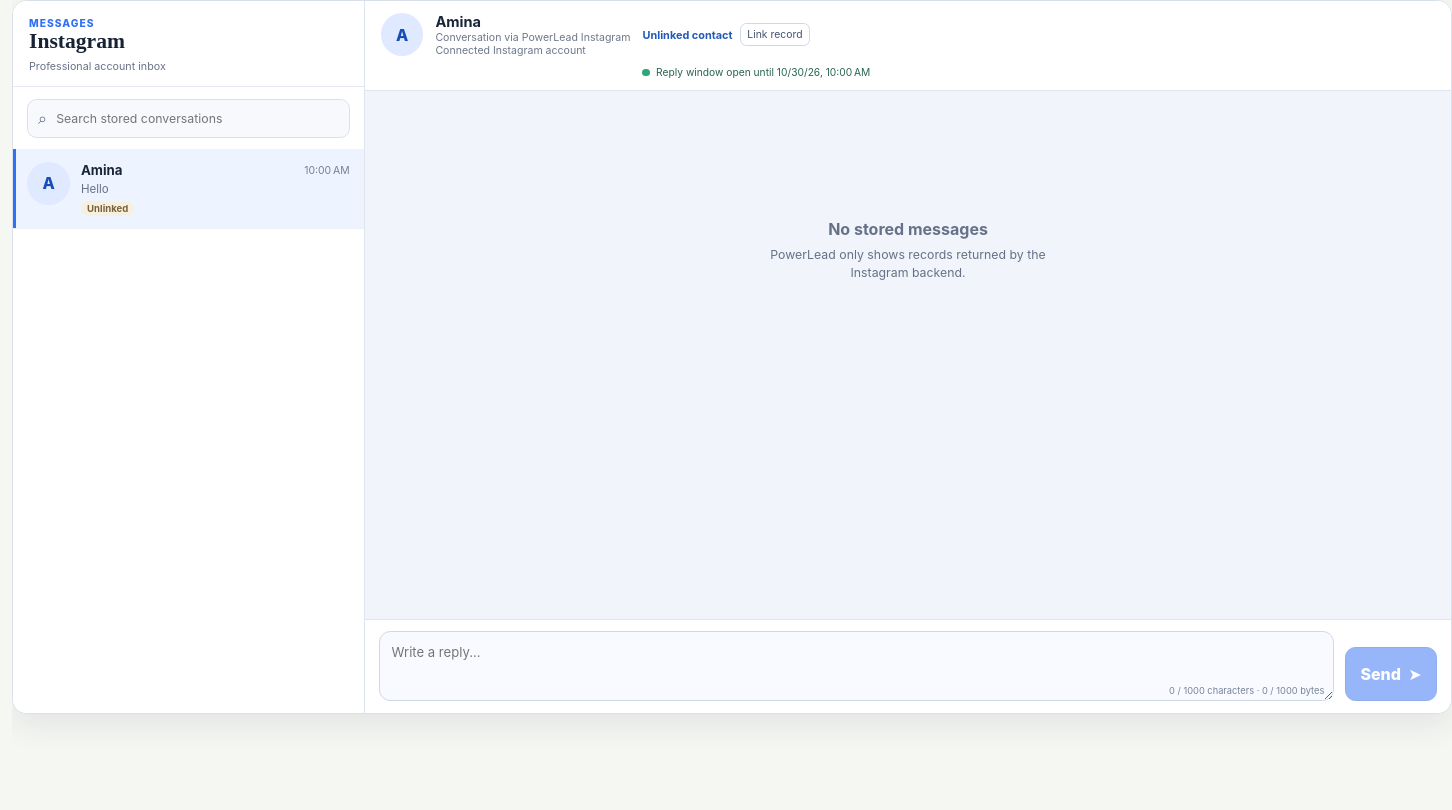
Test: InstagramInboxComponent › handles definitive provider failures separately and keeps the draft
Type "Please reply" into the text box labelled "0 / 1000 characters · 0 / 1000 bytes". click: (856, 666)
box: [379,631,1334,701]
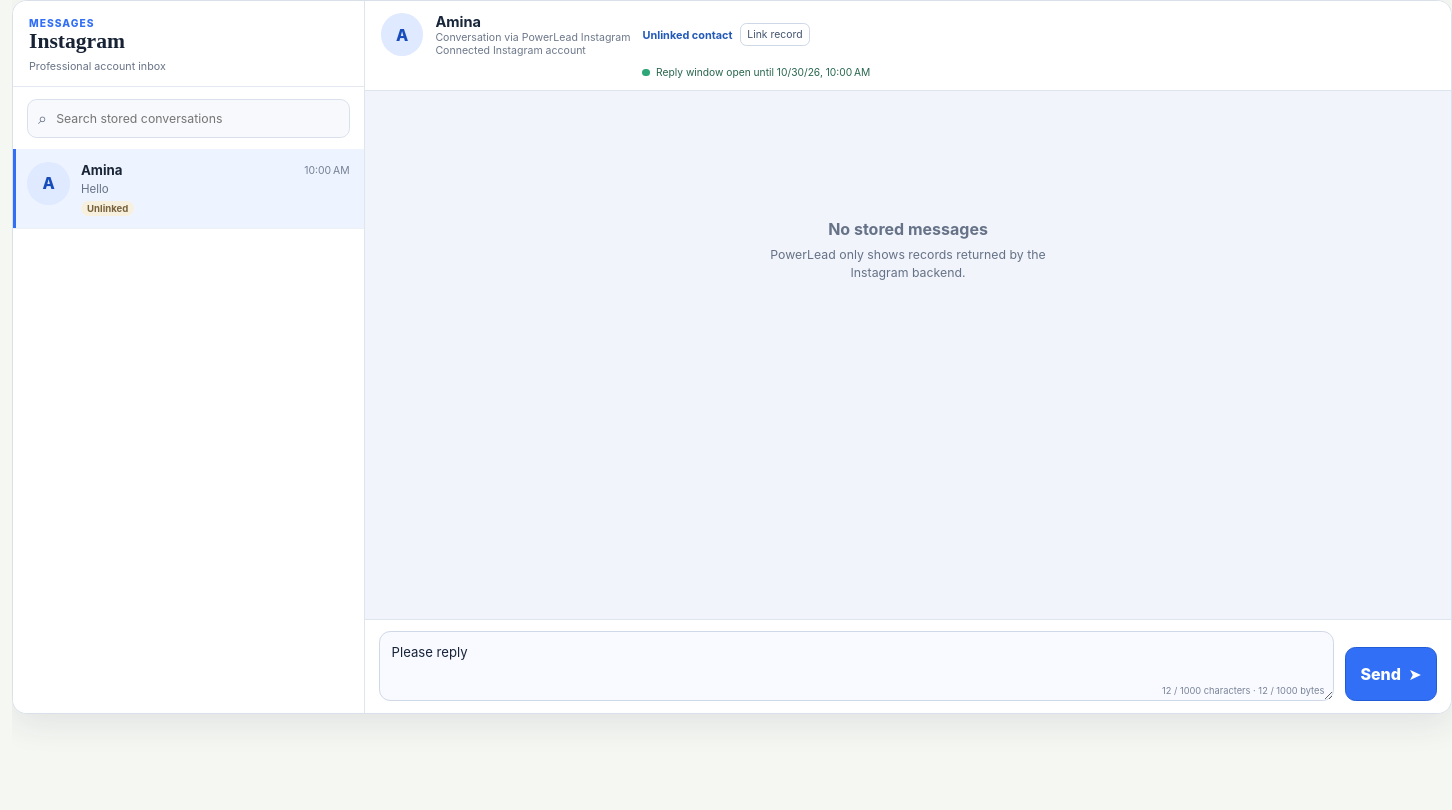
Click the button with class "send-button". click: (1391, 674)
box: [1345,647,1437,701]
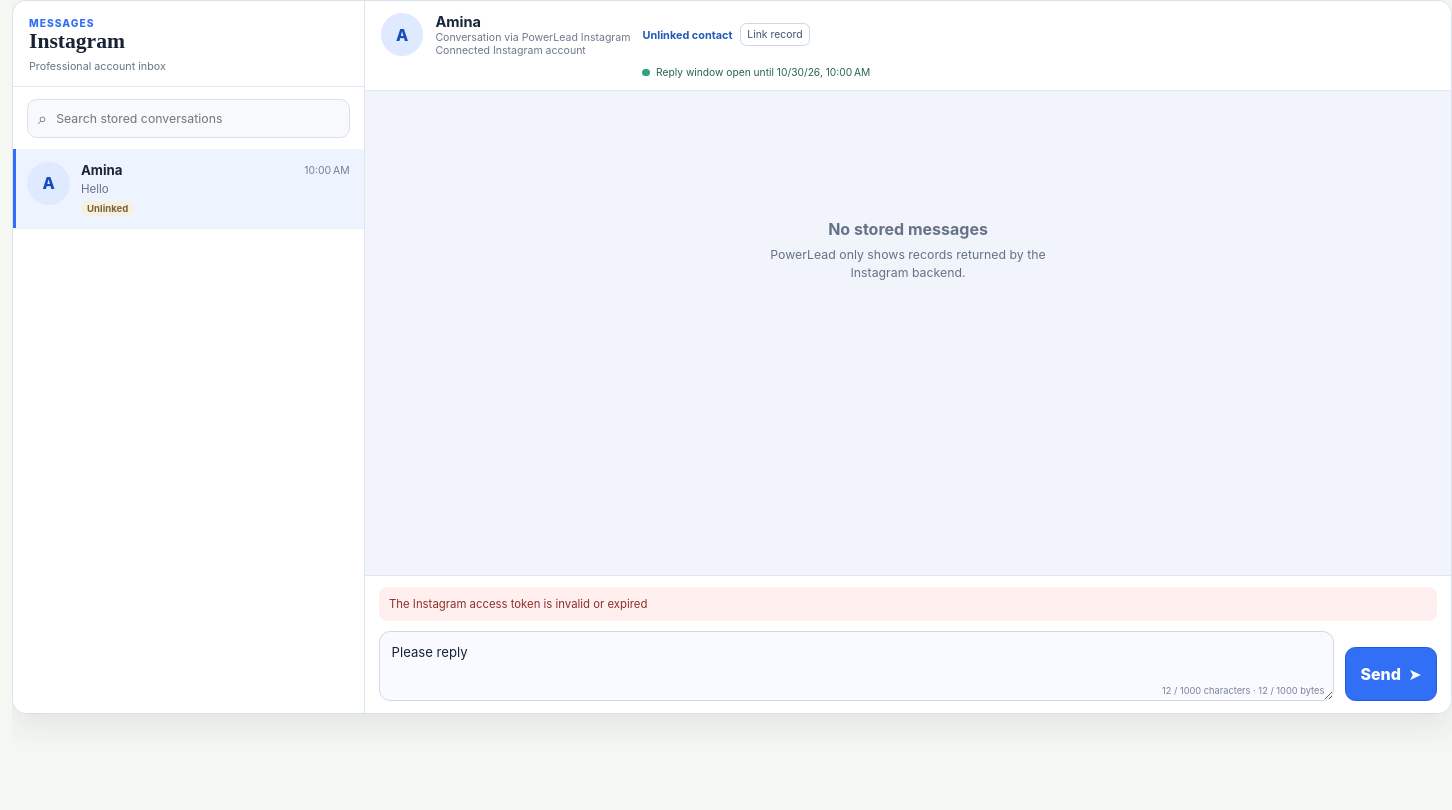
Expected: the text "invalid or expired" is shown, [389,597,648,611]
